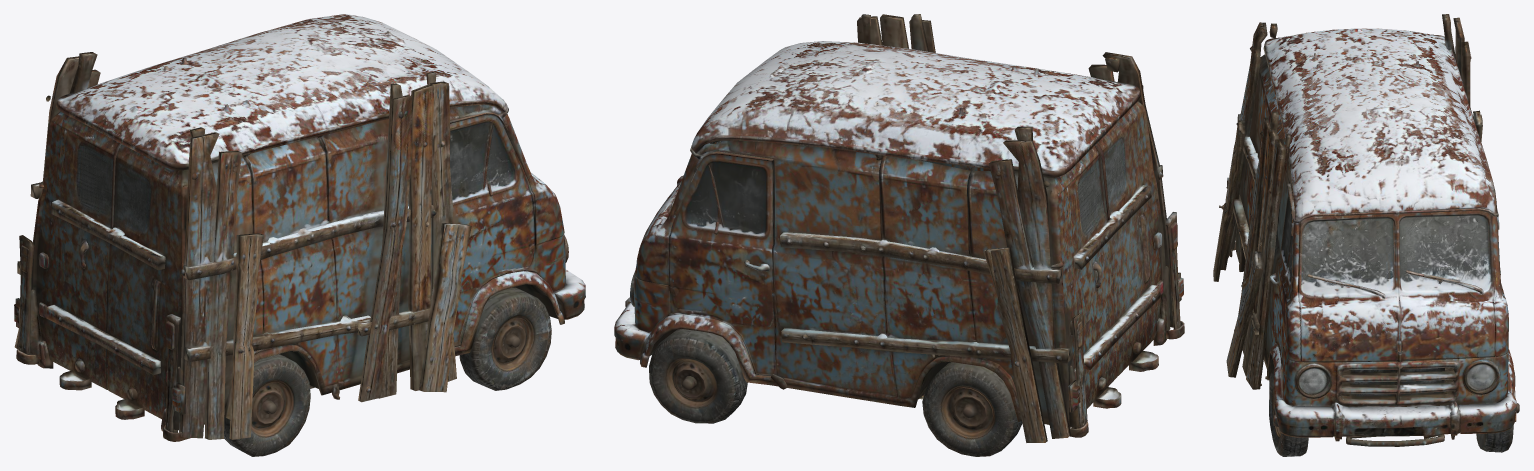
Rendered from jt_van_a.glb.
The picture shows the model from 3 angles, left to right: view 1: azimuth 30°, elevation 25°; view 2: azimuth 150°, elevation 25°; view 3: azimuth 270°, elevation 25°; orthographic projection. The views are drawn at different scales.
Visible parts, largest first — view 1: a0a7b7c7_77ff_4387_a15d_0fb57f66308e; view 2: a0a7b7c7_77ff_4387_a15d_0fb57f66308e; view 3: a0a7b7c7_77ff_4387_a15d_0fb57f66308e.
Part boxes in pixels (x1,y1,x2,y2): a0a7b7c7_77ff_4387_a15d_0fb57f66308e: [14, 14, 585, 456]; a0a7b7c7_77ff_4387_a15d_0fb57f66308e: [614, 14, 1184, 456]; a0a7b7c7_77ff_4387_a15d_0fb57f66308e: [1213, 14, 1519, 456].
Size of the model in its own units: 0.9995 by 0.7017 by 0.6421.
Materials: 1 (1 with a texture image).
